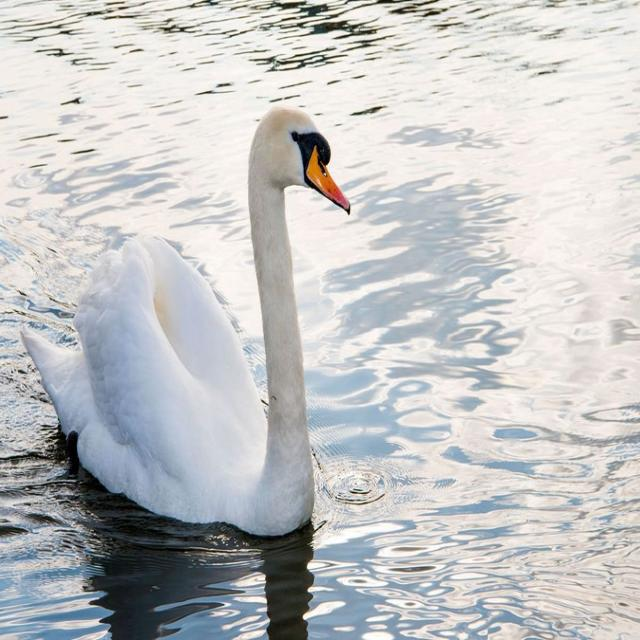swan: (21, 106, 350, 534)
